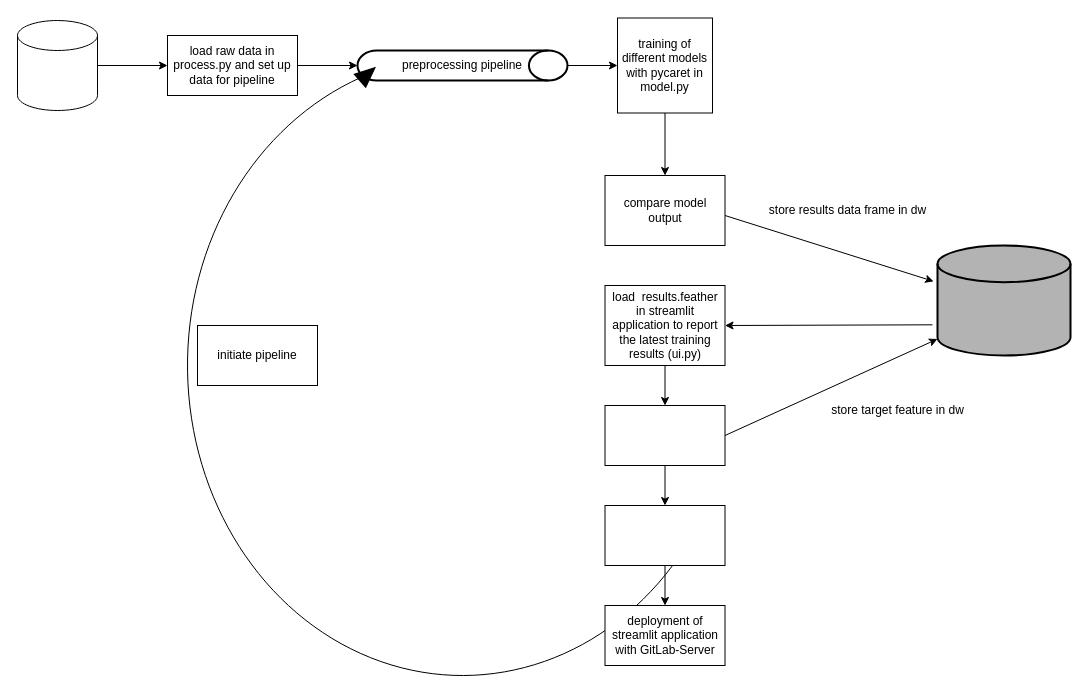
The diagram is 1089 pixels wide and 693 high, and some of its shapes have lost their labels. Each missing label, with the centre of its shape:
click action-button "retrain data set" to rerun the pipeline: [664,535]
Data Warehouse (SQLite): [1003,300]
raw data folder (repo): [57,65]
select target feature in the sidebar of ui: [664,435]
